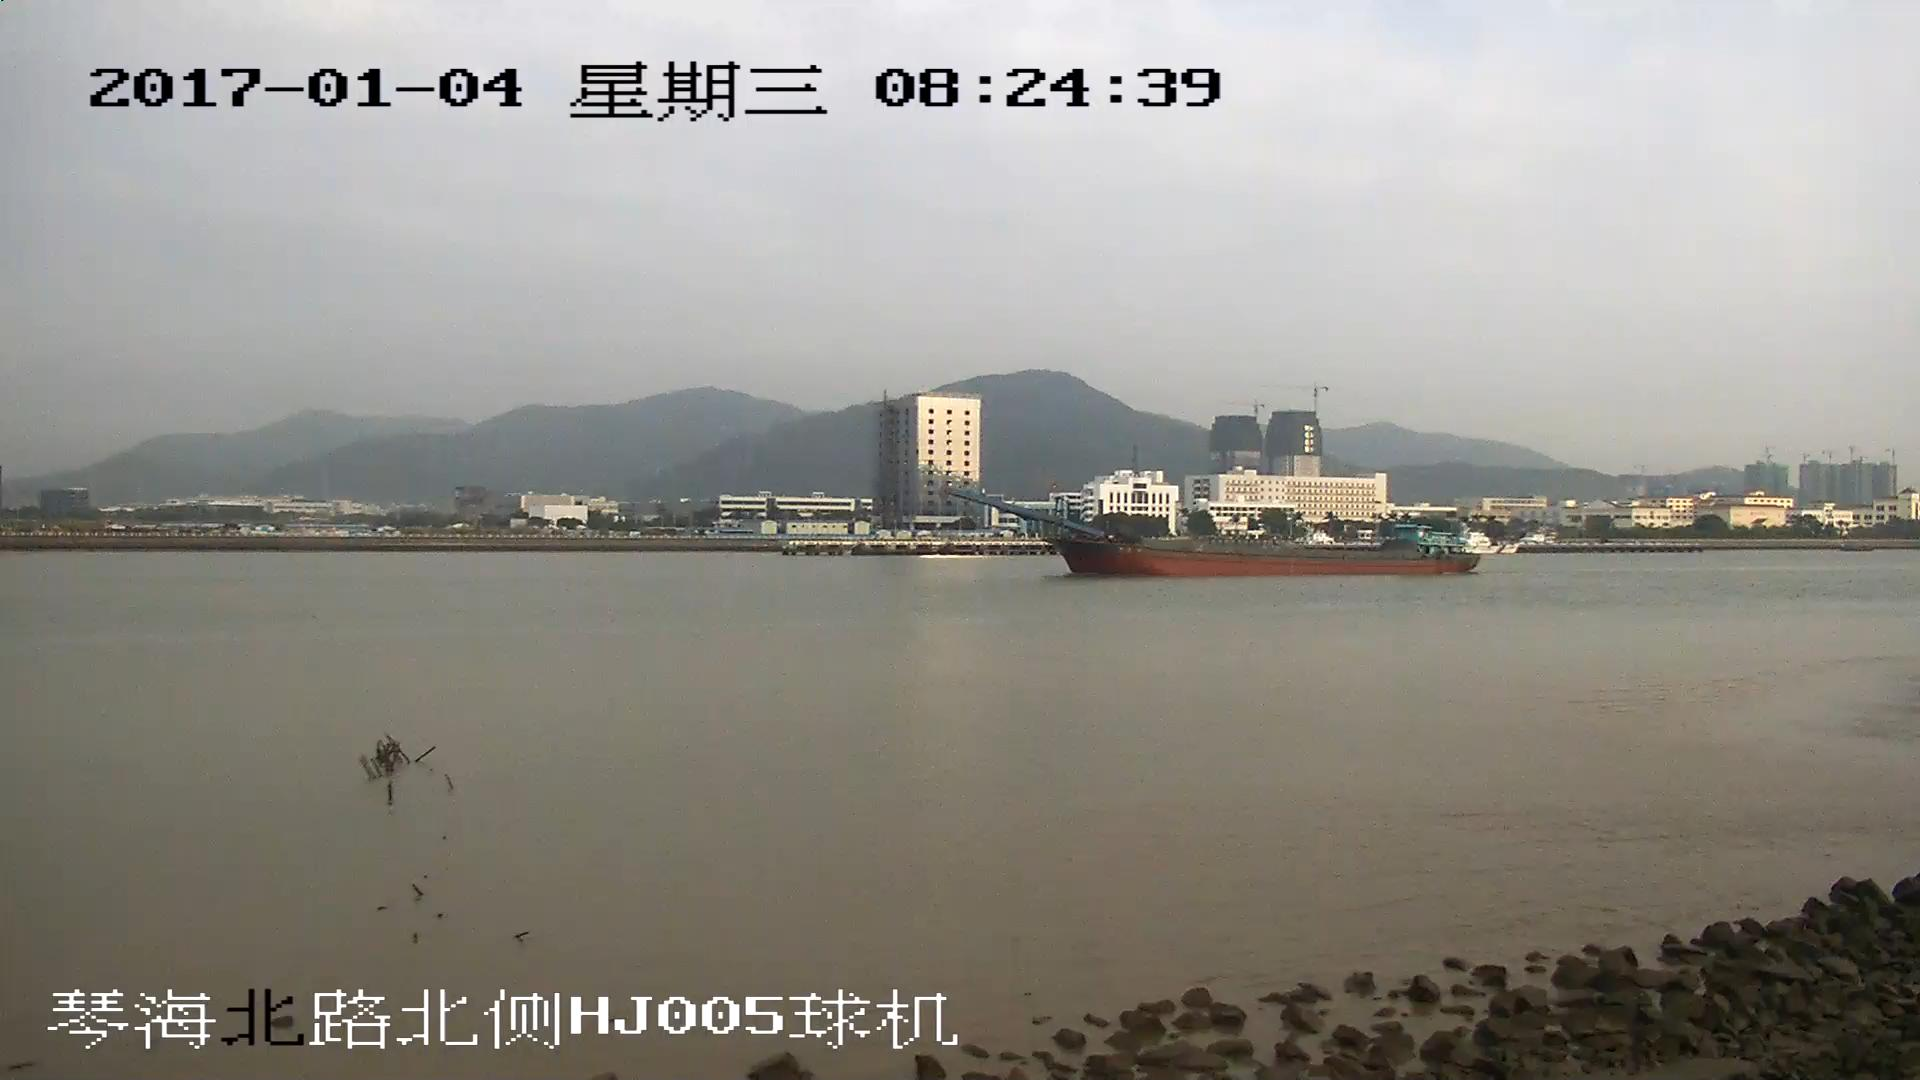bulk cargo carrier: (951, 487, 1479, 575)
